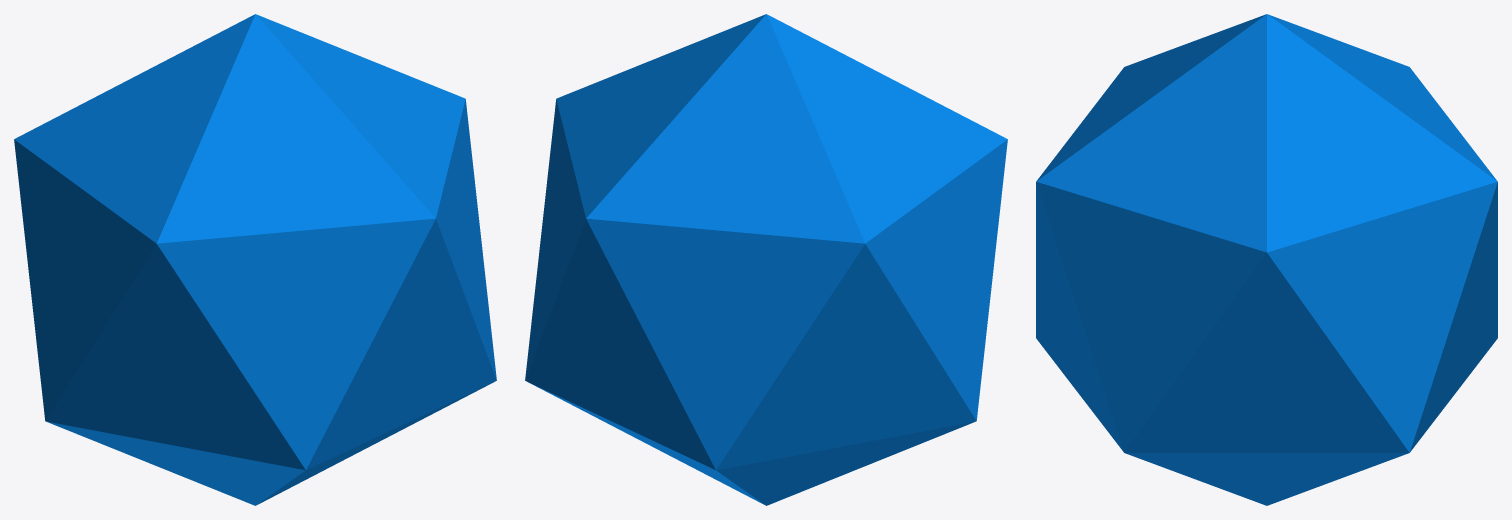
Rendered from Phone.glb.
3 renders of one model, left to right at view 1: azimuth 30°, elevation 25°; view 2: azimuth 150°, elevation 25°; view 3: azimuth 270°, elevation 25°, orthographic.
Visible parts, largest first — view 1: Joint.032; view 2: Joint.032; view 3: Joint.032.
Part boxes in pixels (box(x1,y1,x2,y2)): Joint.032: box(14, 14, 496, 505); Joint.032: box(525, 14, 1007, 505); Joint.032: box(1036, 14, 1497, 505).
Size of the model in its own units: 0.2726 by 0.3048 by 0.2593.
